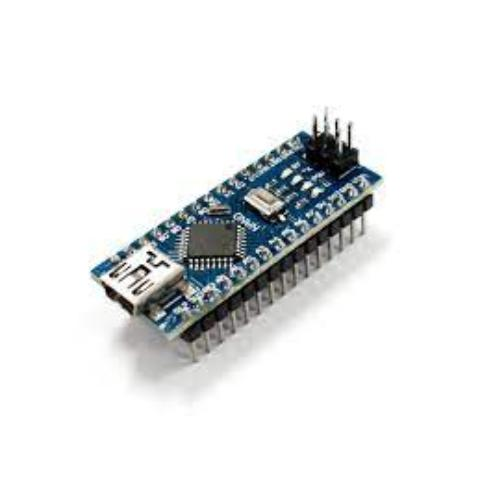Arduino-Nano: (82, 100, 390, 370)
